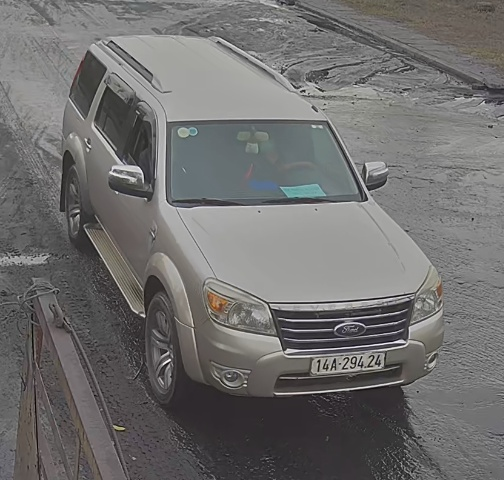vehicle plate: (307, 351, 388, 375)
